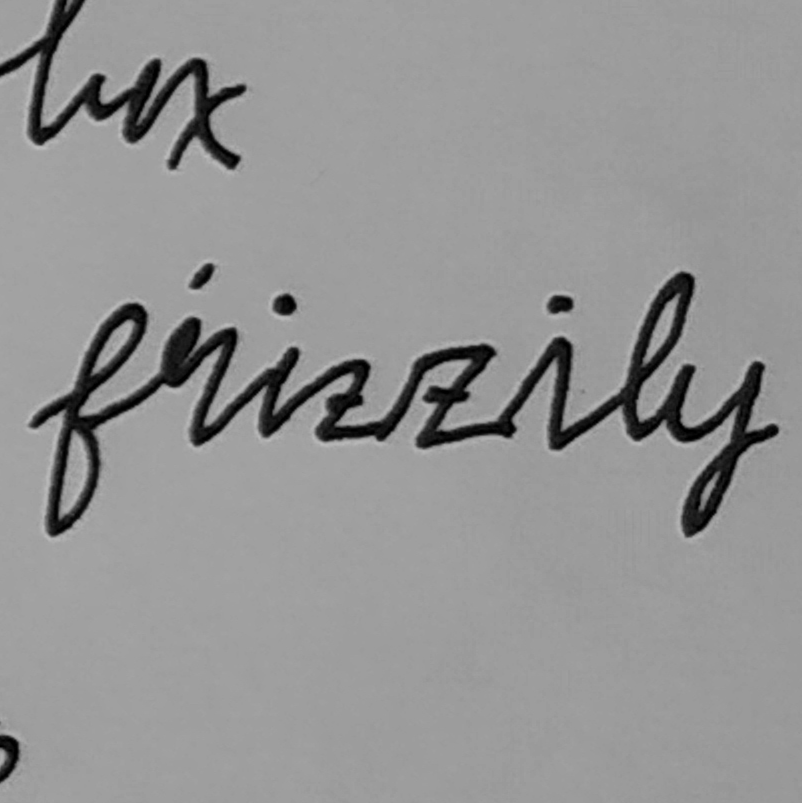f: (38, 297, 151, 541)
i: (524, 289, 592, 455), (248, 287, 303, 444)
l: (611, 265, 700, 447)
r: (154, 310, 244, 452)
y: (656, 356, 777, 542)
z: (401, 339, 520, 451), (305, 355, 381, 445)
